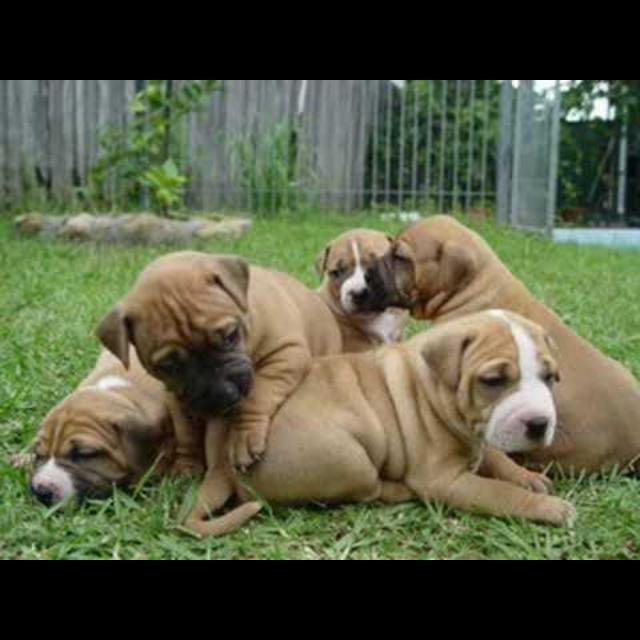am_pit_bull_terrier: (175, 311, 582, 531), (368, 215, 640, 484), (97, 251, 344, 479), (10, 343, 174, 512), (313, 231, 409, 356)
